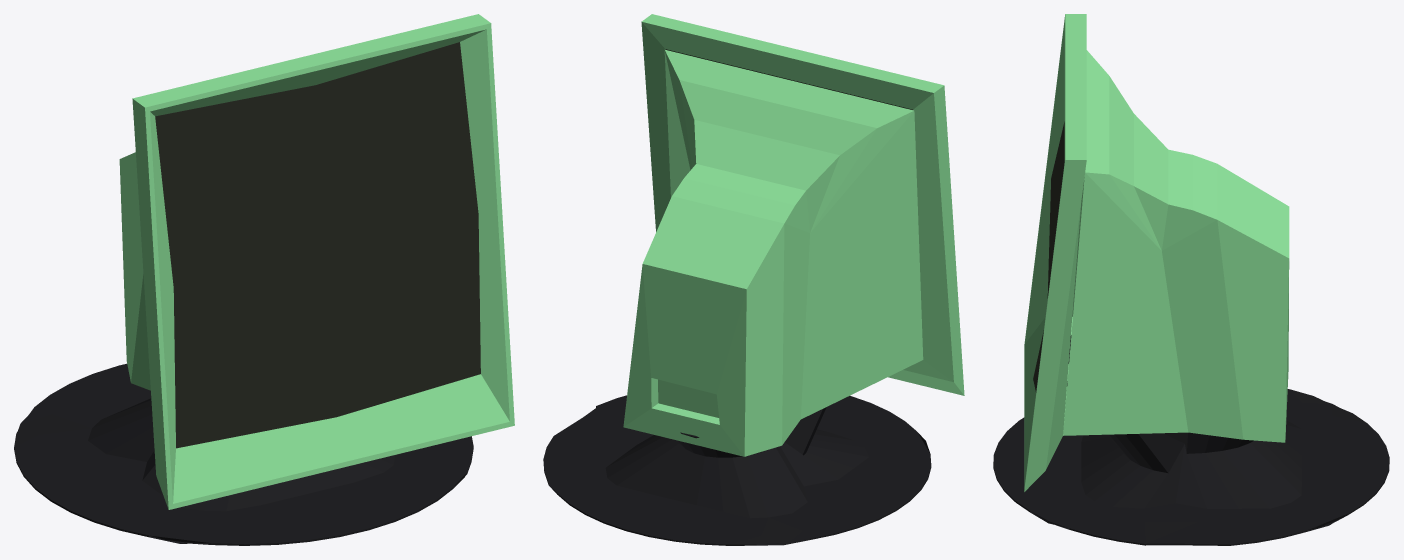
Rendered from Monitor.fbx.
3 views of the same model, side by side, from view 1: azimuth 30°, elevation 25°; view 2: azimuth 150°, elevation 25°; view 3: azimuth 270°, elevation 25° (orthographic). The views are drawn at different scales.
Parts seen in each view (by area): view 1: Monitor, Podstawka; view 2: Monitor, Podstawka; view 3: Monitor, Podstawka.
Part boxes in pixels (x1,y1,x2,y2): Monitor: (119, 14, 514, 509); Podstawka: (14, 363, 473, 545); Monitor: (623, 14, 964, 456); Podstawka: (543, 395, 931, 545); Monitor: (1024, 14, 1289, 491); Podstawka: (993, 335, 1389, 545).
Bounding box in the file's own units: 228 × 242 × 230.
